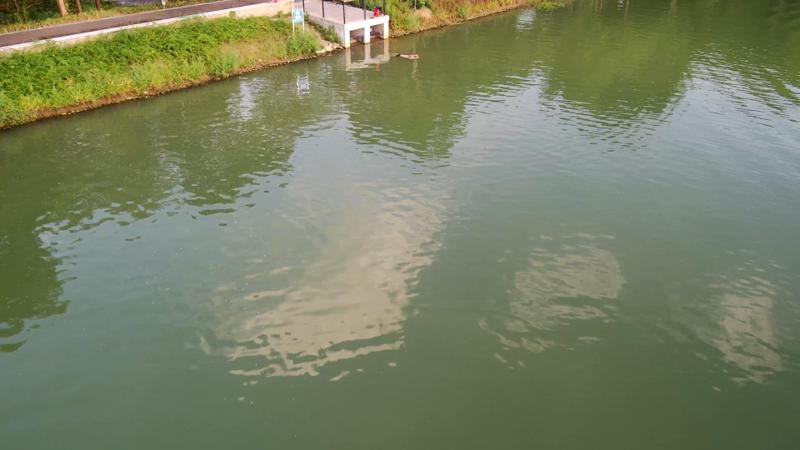swimmers: (391, 52, 420, 61)
